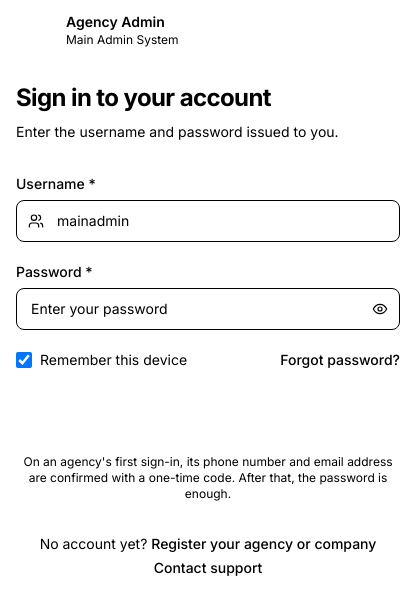
forgotten password › is reached from the sign-in screen
Click the link "Forgot password?" at (340, 360), box [280,350,400,370]
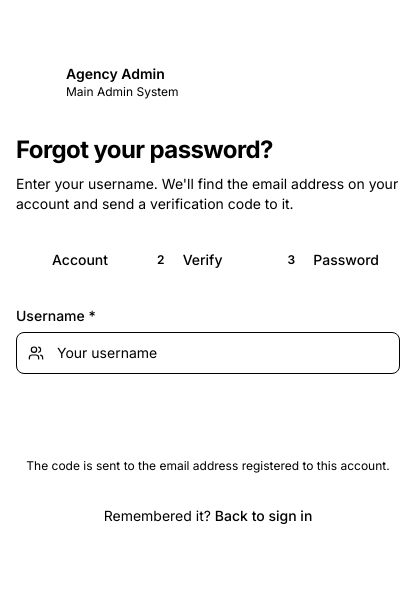
Expected: the heading "Forgot your password?" is shown, [16,135,273,164]
